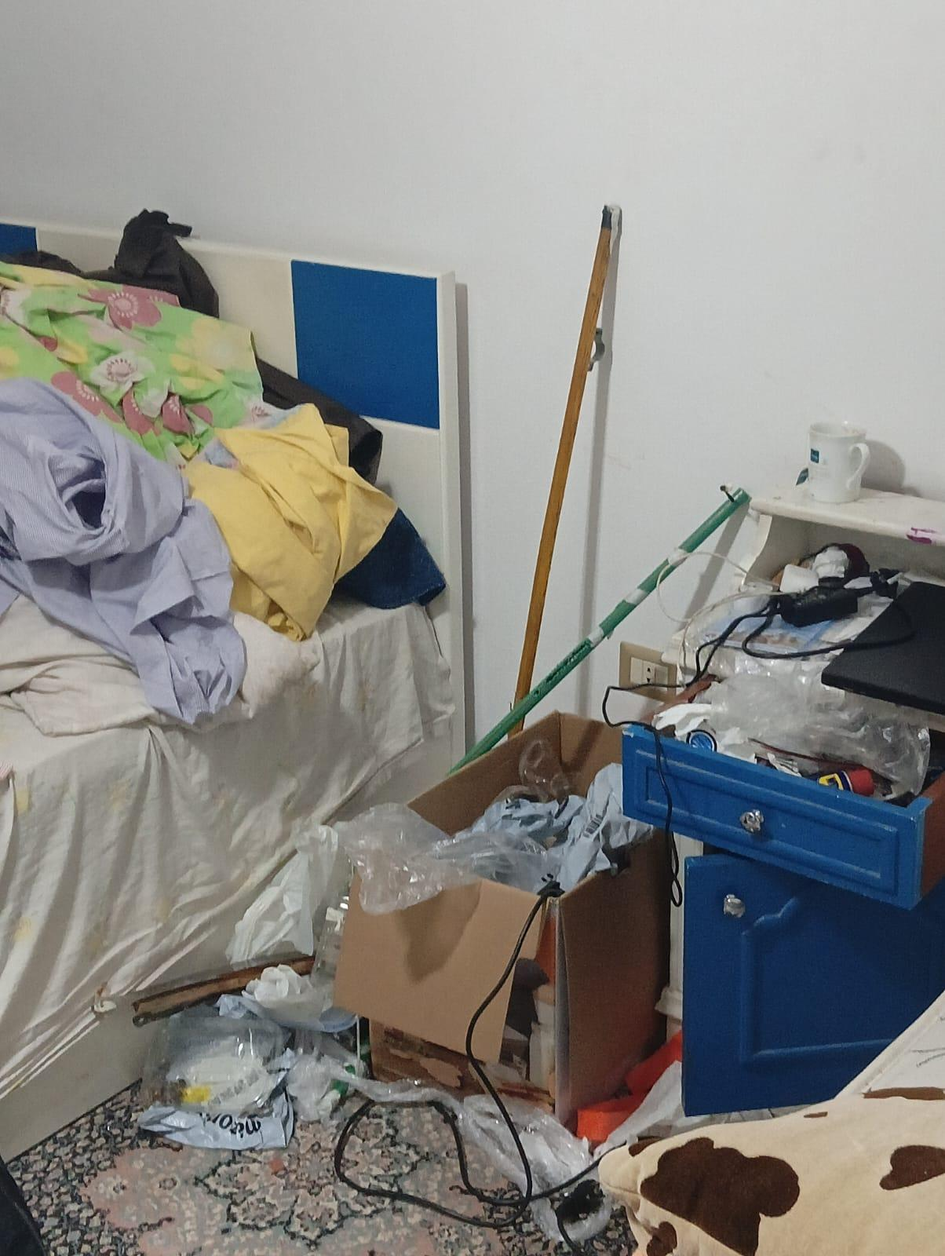cup: (808, 422, 869, 502)
